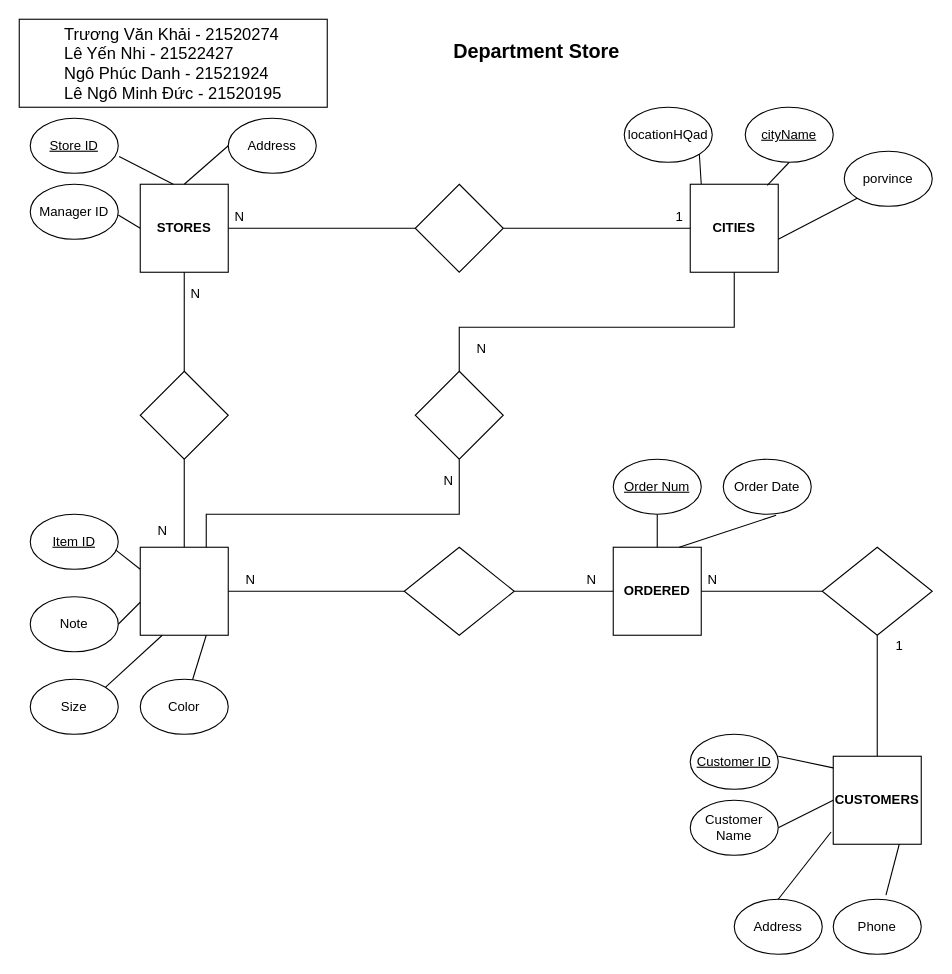
The diagram is 952 pixels wide and 974 high, and some of its shapes have lost their labels. Here are the shapes that lost their labels. From the top down, the centre of each, then its label:
At (458,227): "LOCATED".
At (183,414): "HOLD".
At (458,414): "IN CITIES".
At (183,590): "ITEMS".
At (458,590): "ORDERING ITEM".
At (876,590): "PLACE".
